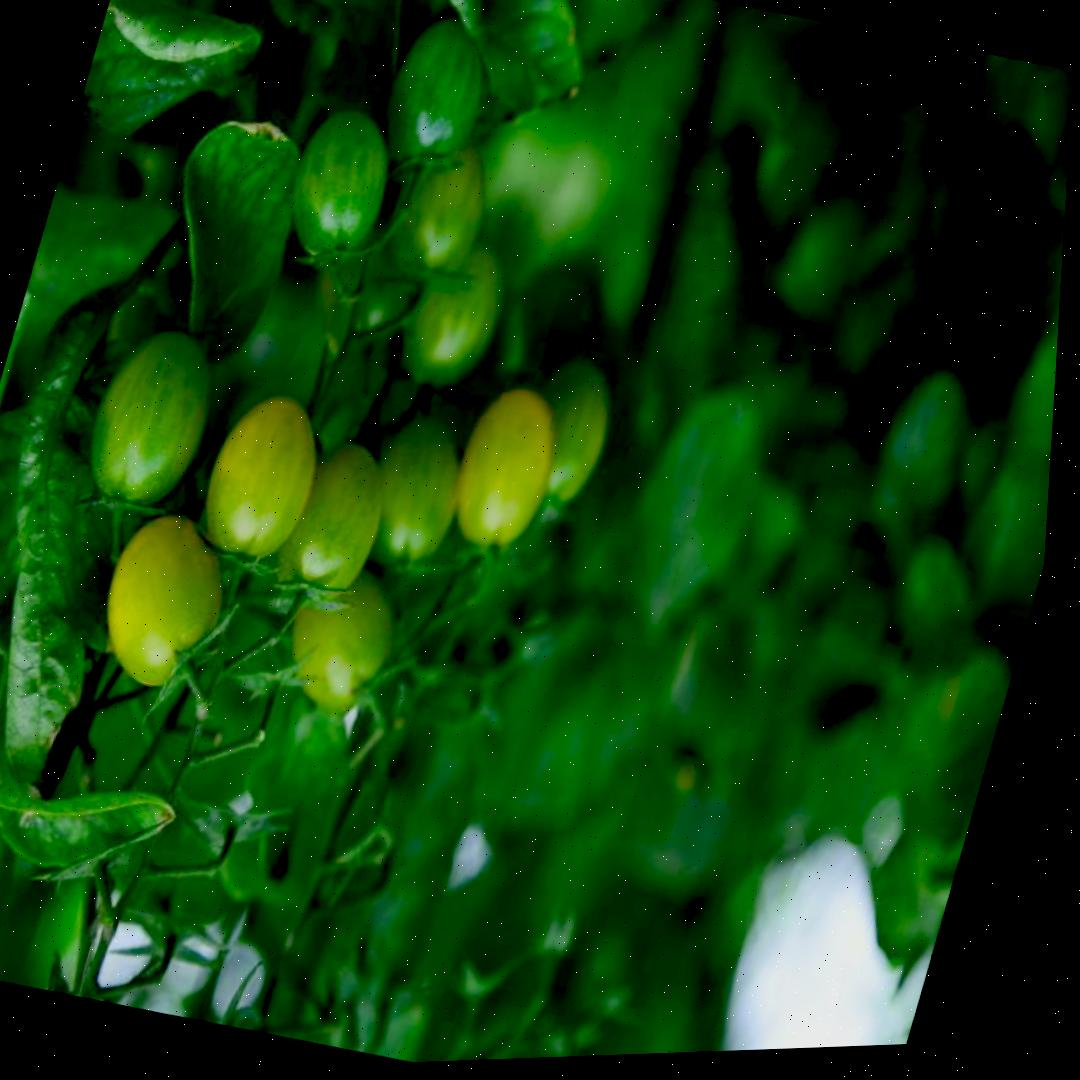mentah: (68, 316, 232, 523), (256, 426, 403, 621), (368, 0, 507, 188), (271, 95, 404, 270)
setengah_matang: (79, 501, 246, 705), (185, 372, 339, 576), (436, 375, 573, 557)
